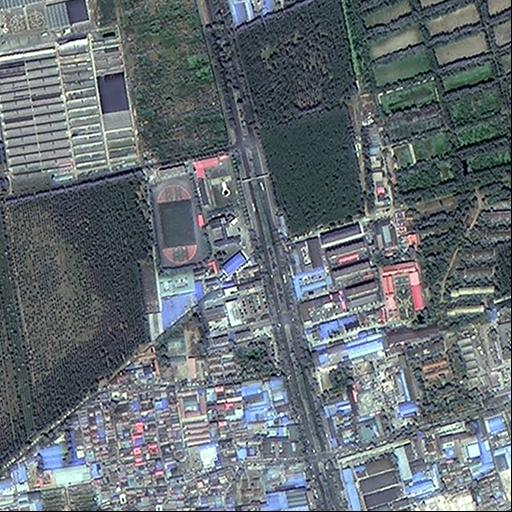school: (142, 164, 246, 299)
